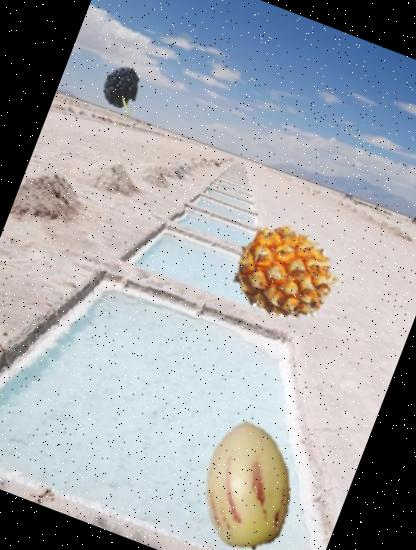Mulberry: (79, 52, 150, 123)
Pepino: (163, 401, 332, 550)
Pineapple: (218, 208, 352, 341)
